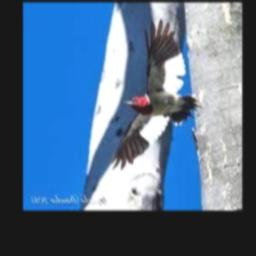Woodpecker: (111, 20, 205, 171)
